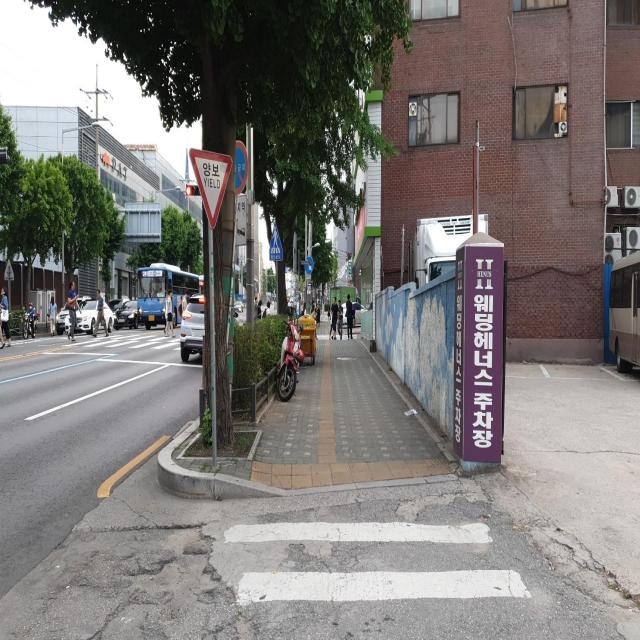횡단보도: (223, 520, 532, 608), (54, 324, 209, 351)
